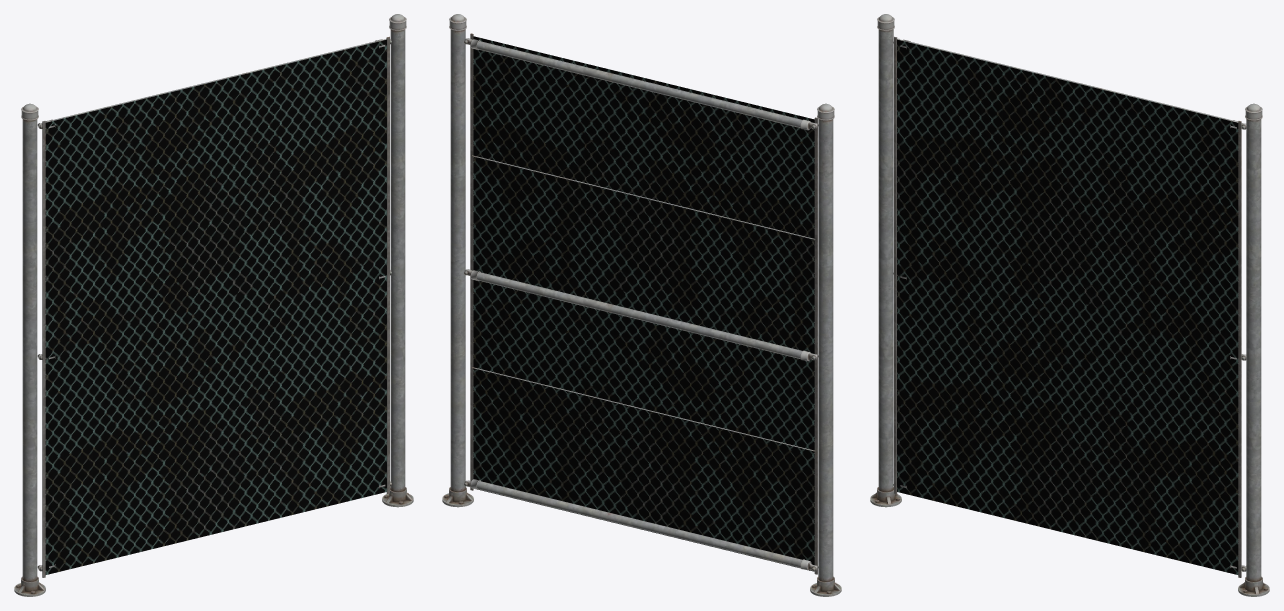
File: fence-section.glb
The picture shows the model from 3 angles, left to right: view 1: azimuth 30°, elevation 25°; view 2: azimuth 150°, elevation 25°; view 3: azimuth 330°, elevation 25°; orthographic projection.
Parts seen in each view (by area): view 1: modular_chainlink_fence_double, modular_chainlink_fence_post (×2); view 2: modular_chainlink_fence_double, modular_chainlink_fence_post (×2); view 3: modular_chainlink_fence_double, modular_chainlink_fence_post (×2).
Boxes of the visible parts, x1,y1,x2,y2 form: modular_chainlink_fence_double: (37, 36, 391, 577); modular_chainlink_fence_post (×2): (14, 14, 413, 596); modular_chainlink_fence_double: (464, 33, 818, 574); modular_chainlink_fence_post (×2): (442, 14, 841, 596); modular_chainlink_fence_double: (893, 36, 1246, 577); modular_chainlink_fence_post (×2): (870, 14, 1269, 596).
Size of the model in its own units: 2.15 by 2.52 by 0.1494.
Materials: 2 (2 with a texture image).
